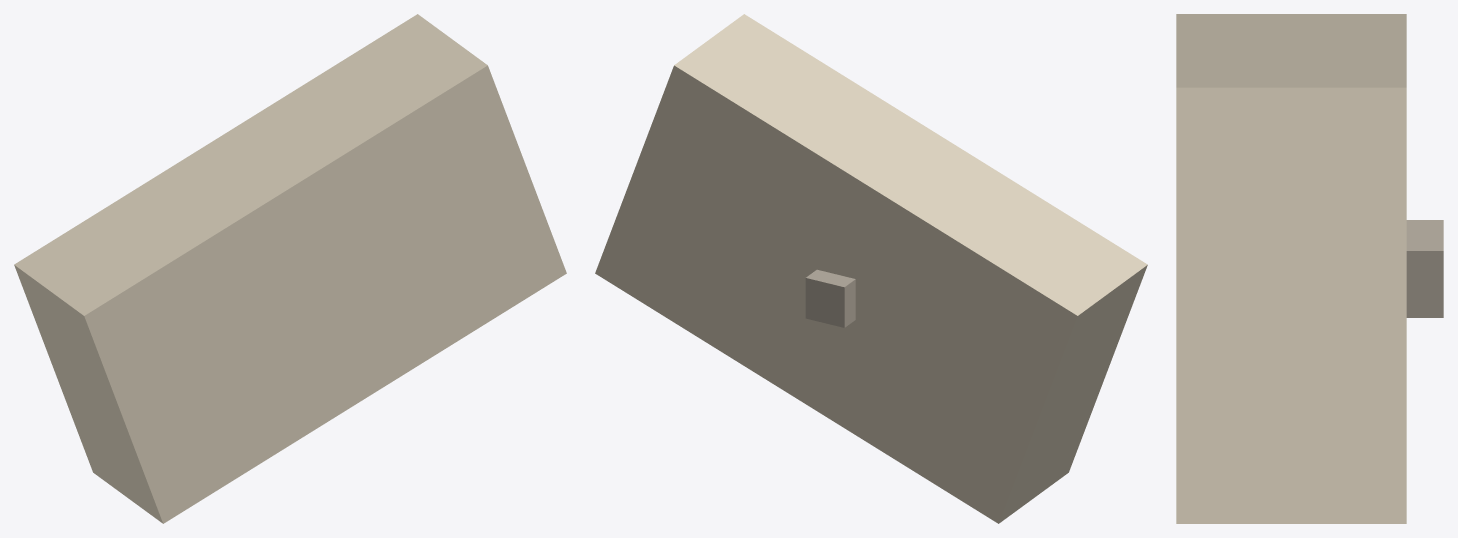
The model's file is historic-palestine-12_24_3542_3185.glb.
3 views of the same model, side by side, from view 1: azimuth 30°, elevation 25°; view 2: azimuth 150°, elevation 25°; view 3: azimuth 270°, elevation 25° (orthographic). The views are drawn at different scales.
Parts seen in each view (by area): view 1: Building_; view 2: Building_, Roof access hut; view 3: Building_, Roof access hut.
Part boxes in pixels (x1,y1,x2,y2): Building_: (14,14,566,523); Building_: (595,14,1147,523); Roof access hut: (805,269,855,327); Building_: (1176,14,1406,523); Roof access hut: (1406,220,1443,317).
Bounding box in the file's own units: 29.78 × 22.36 × 8.7.
